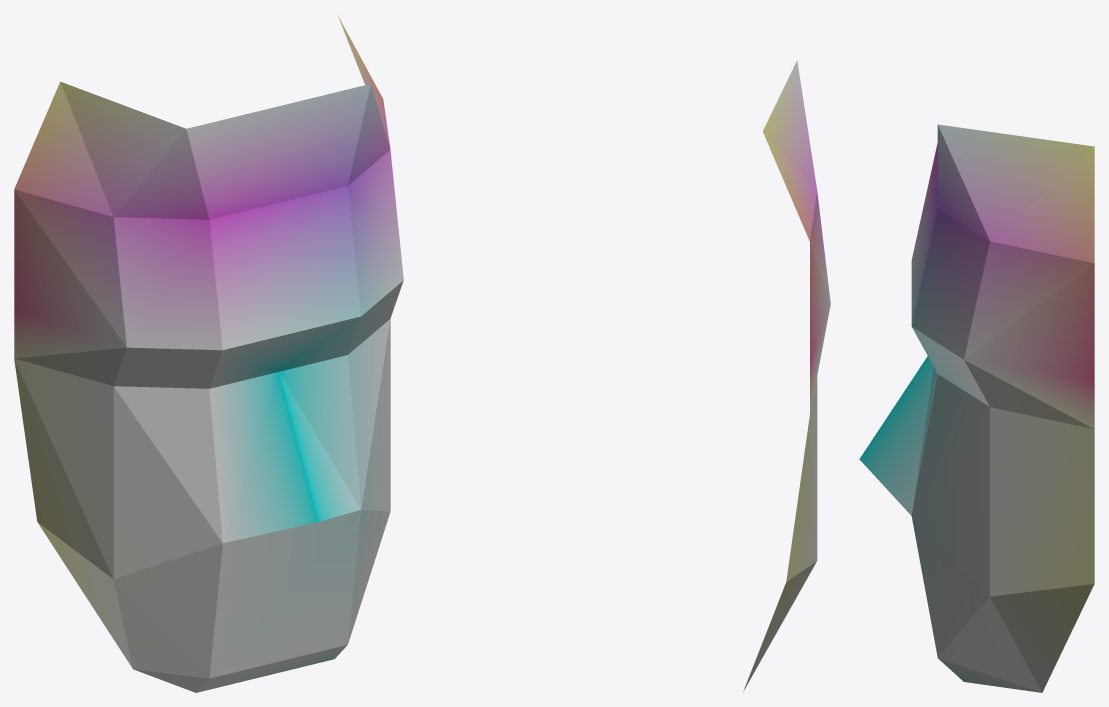
3 views of the same model, side by side, from view 1: azimuth 30°, elevation 25°; view 2: azimuth 150°, elevation 25°; view 3: azimuth 270°, elevation 25° (orthographic). The views are drawn at different scales.
Parts seen in each view (by area): view 1: model_13EF; view 2: model_13EF; view 3: model_13EF.
Boxes of the visible parts, x1,y1,x2,y2 form: model_13EF: (14, 15, 403, 692); model_13EF: (743, 60, 830, 691); model_13EF: (859, 124, 1094, 692).
Size of the model in its own units: 16 by 24 by 9.
